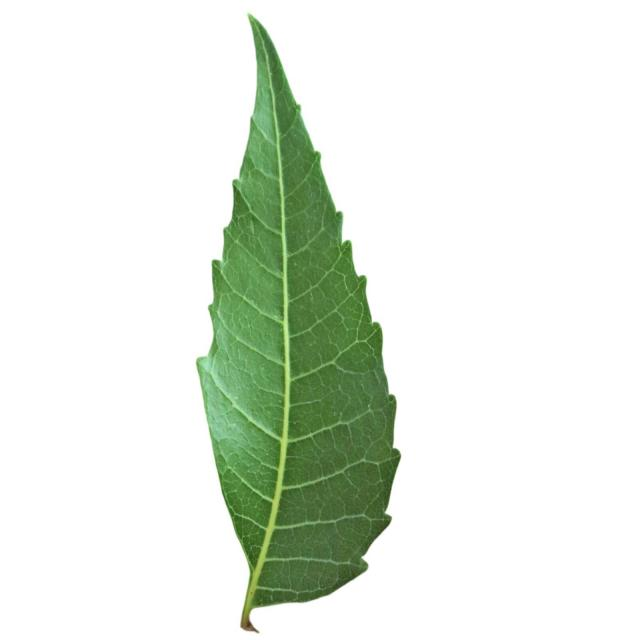Medicinal-Neem: (194, 12, 402, 631)
